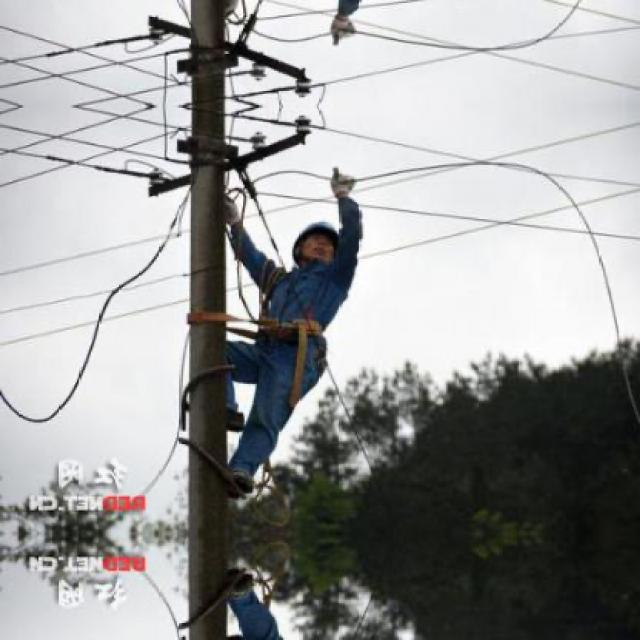helmet: (290, 214, 338, 273)
